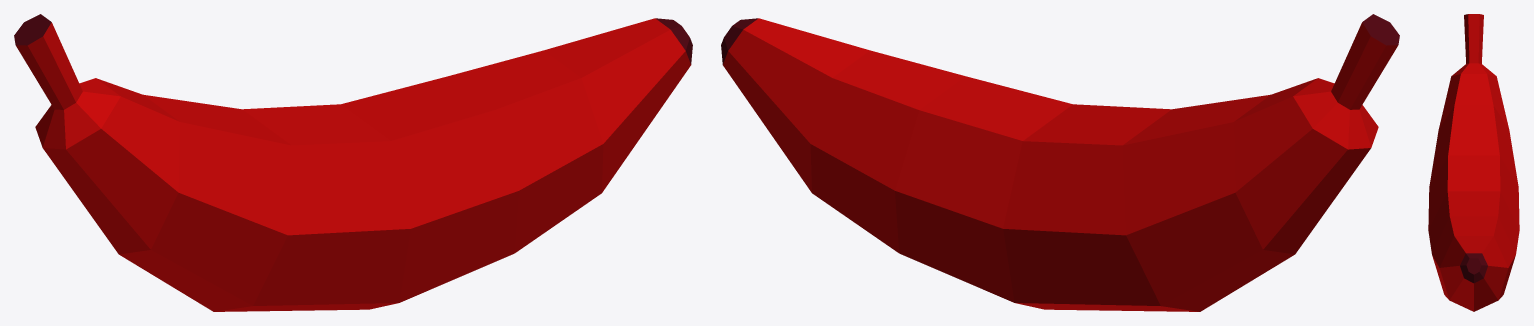
The model's file is Banana_01.fbx.
The picture shows the model from 3 angles, left to right: view 1: azimuth 30°, elevation 25°; view 2: azimuth 150°, elevation 25°; view 3: azimuth 270°, elevation 25°; orthographic projection. The views are drawn at different scales.
Parts seen in each view (by area): view 1: Banana_01; view 2: Banana_01; view 3: Banana_01.
Boxes of the visible parts, box(x1,y1,x2,y2) form: Banana_01: box(14, 14, 692, 311); Banana_01: box(721, 14, 1399, 311); Banana_01: box(1428, 14, 1519, 311).
Size of the model in its own units: 12.34 by 6.48 by 2.76.
